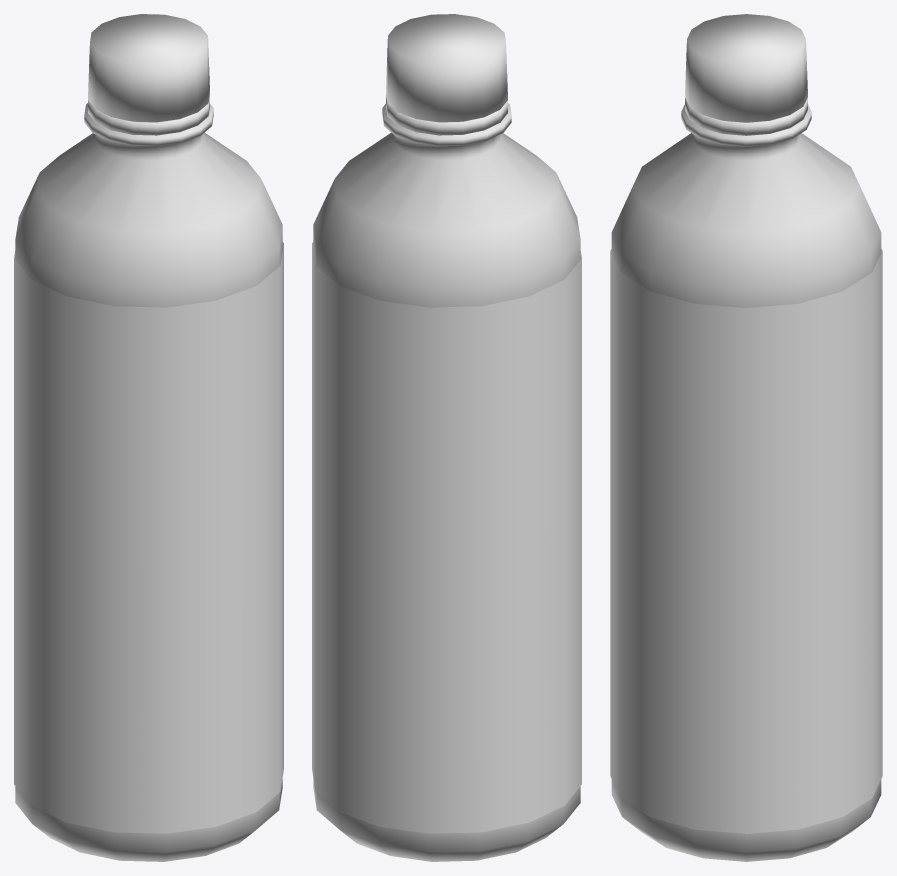
The model's file is pet-bottle.glb.
3 views of the same model, side by side, from view 1: azimuth 30°, elevation 25°; view 2: azimuth 150°, elevation 25°; view 3: azimuth 270°, elevation 25° (orthographic).
Visible parts, largest first — view 1: __X_LABEL__, Bottle, __X_CAP__Cap, Ring; view 2: __X_LABEL__, Bottle, __X_CAP__Cap, Ring; view 3: __X_LABEL__, Bottle, __X_CAP__Cap, Ring.
Boxes of the visible parts, <box> form: __X_LABEL__: <box>14,242,283,833</box>; Bottle: <box>15,103,282,861</box>; __X_CAP__Cap: <box>88,14,209,122</box>; Ring: <box>88,95,209,135</box>; __X_LABEL__: <box>312,242,581,833</box>; Bottle: <box>313,103,580,861</box>; __X_CAP__Cap: <box>386,14,507,122</box>; Ring: <box>386,95,507,135</box>; __X_LABEL__: <box>610,249,882,833</box>; Bottle: <box>611,104,881,861</box>; __X_CAP__Cap: <box>685,14,807,122</box>; Ring: <box>685,98,807,135</box>.
Size of the model in its own units: 0.0656 by 0.2063 by 0.0656.
4 materials, 1 textured.
